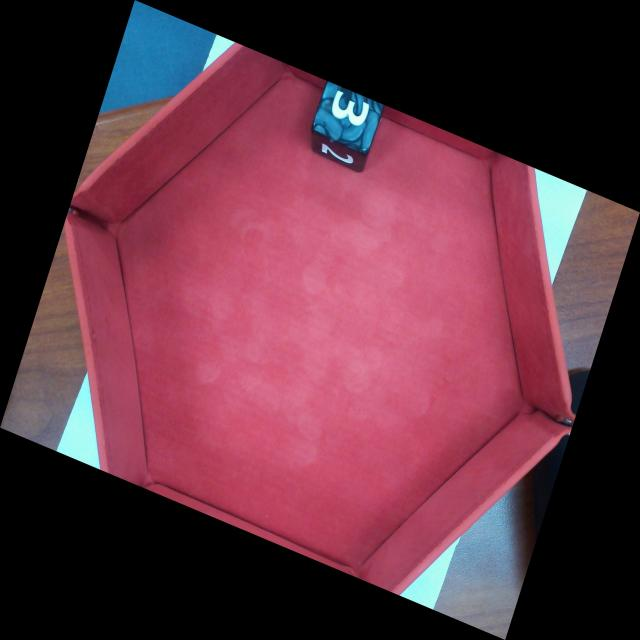dice: (314, 79, 382, 150)
